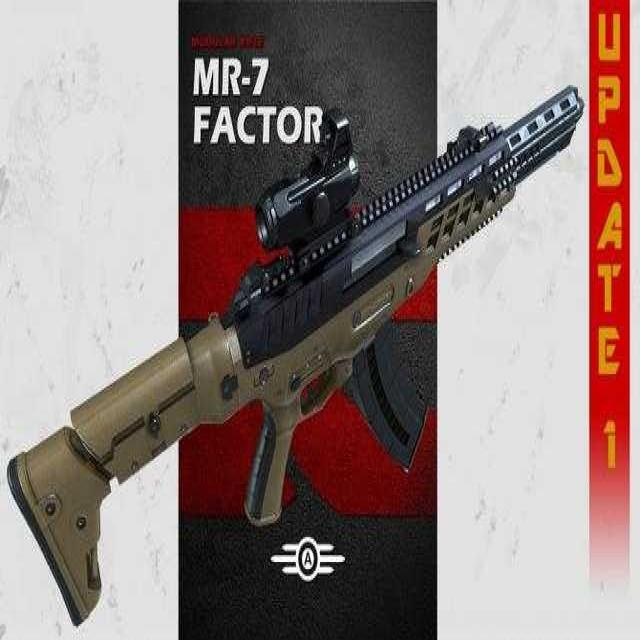heavyweapon: (16, 70, 592, 640)
